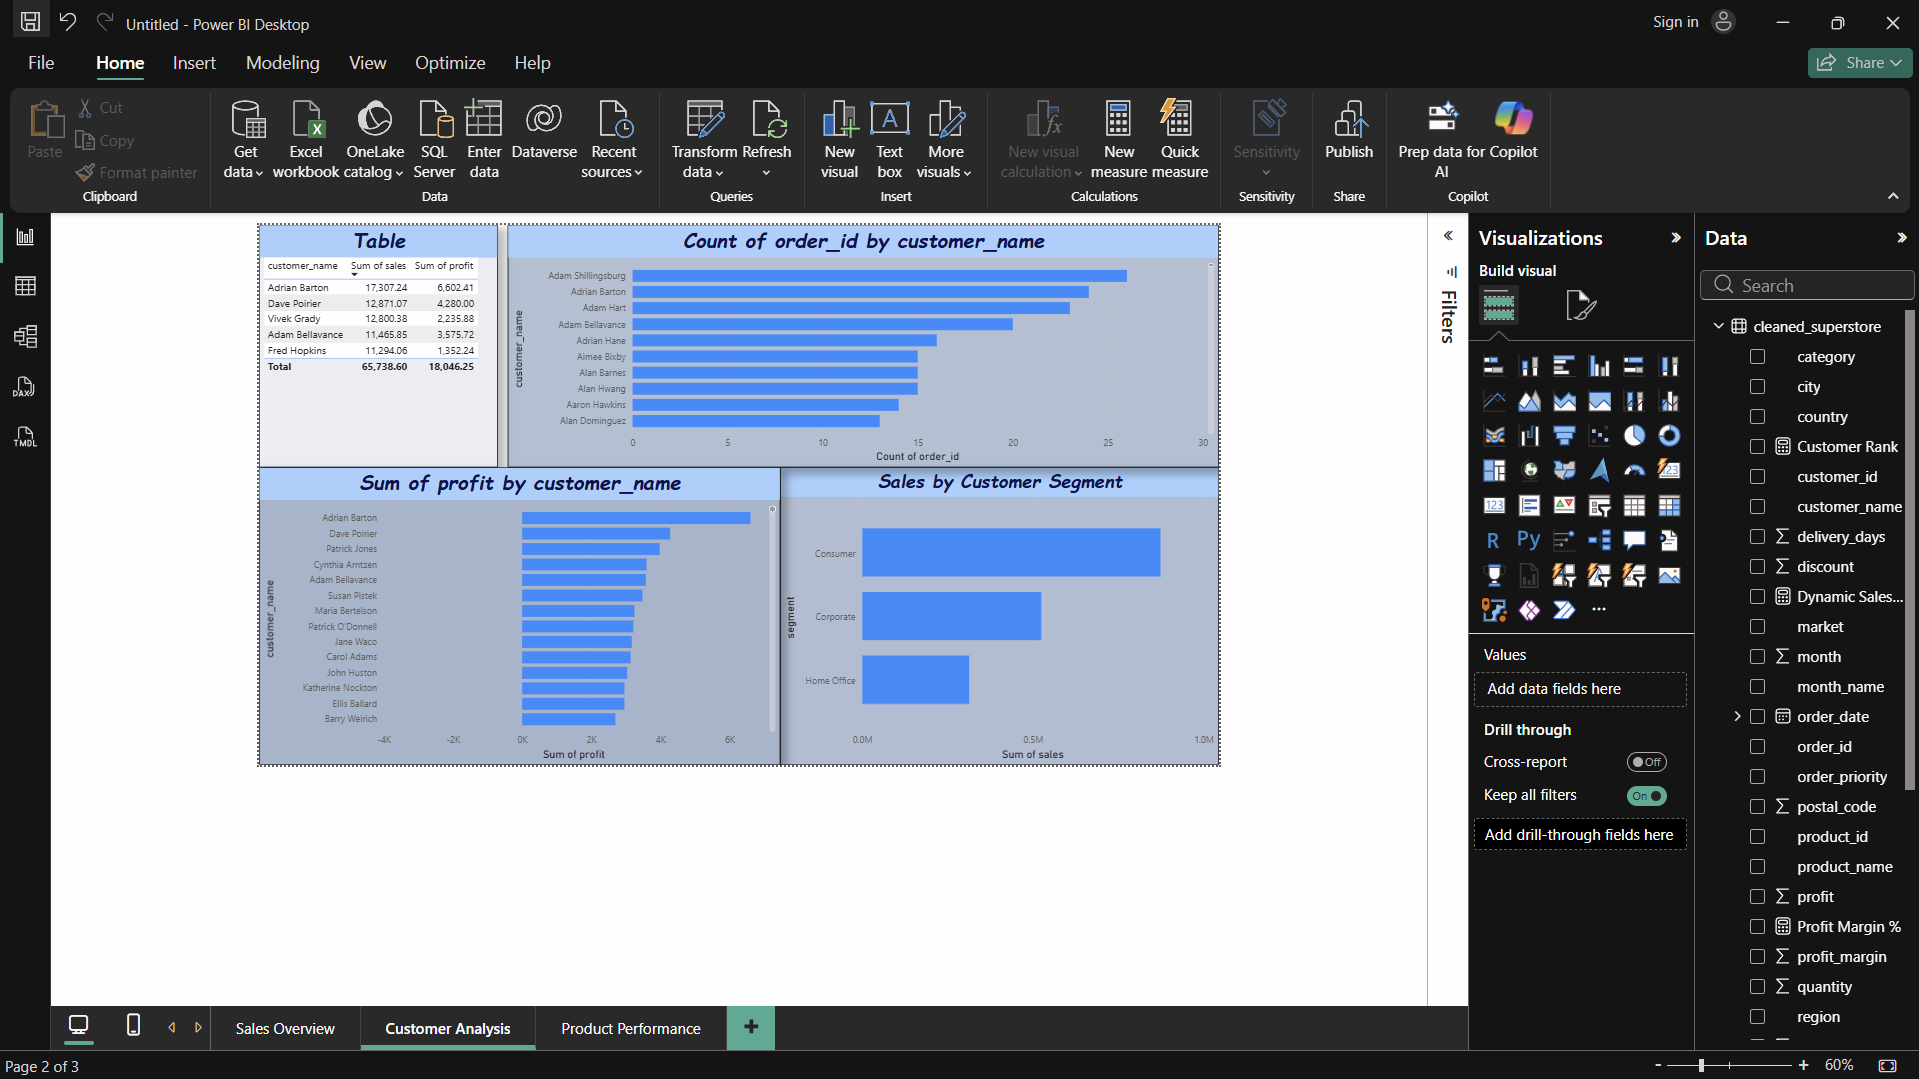

The page's visual inventory and layout, read from the dashboard file:
{"tool":"powerbi","page":{"name":"Customer Analysis","canvas":[1280,720],"ordinal":1},"visuals":[{"type":"tableEx","title":"Table","fields":{"Values":["cleaned_superstore.customer_name","cleaned_superstore.sales","cleaned_superstore.profit"]},"box":[0,0,318.3,323.3],"z":0},{"type":"clusteredBarChart","title":"Sales by Customer Segment","fields":{"Category":["cleaned_superstore.segment"],"Y":["cleaned_superstore.sales"]},"box":[695,323.3,585,396.7],"z":1000},{"type":"clusteredBarChart","fields":{"Category":["cleaned_superstore.customer_name"],"Y":["cleaned_superstore.order_id"]},"box":[331.7,0,948.3,323.3],"z":2000},{"type":"clusteredBarChart","fields":{"Category":["cleaned_superstore.customer_name"],"Y":["cleaned_superstore.profit"]},"box":[0,323.3,695,396.7],"z":3000}]}

Visuals, with their boxes on the page's 1280x720 design canvas (x1, y1, x2, y2). These are canvas units, not pixel positions in the 1919x1079 screenshot, which may show the page scaled, cropped or inside an application window:
"Table" tableEx: 0/0/318/323
"Sales by Customer Segment" clusteredBarChart: 695/323/1280/720
clusteredBarChart - cleaned_superstore.customer_name x cleaned_superstore.order_id: 332/0/1280/323
clusteredBarChart - cleaned_superstore.customer_name x cleaned_superstore.profit: 0/323/695/720
